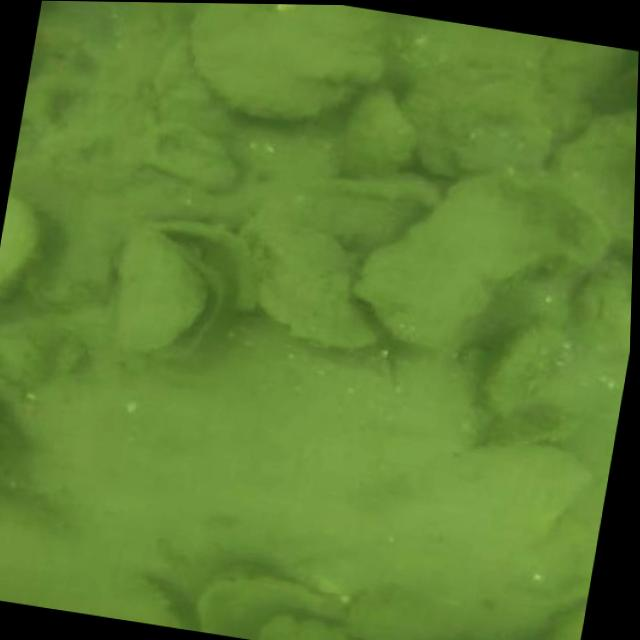Oyster-Closed: (489, 322, 569, 416), (341, 88, 411, 173), (544, 43, 633, 100)
Oyster-Indeterminate: (357, 177, 589, 353), (193, 7, 384, 123), (243, 216, 377, 350), (406, 62, 551, 176), (347, 587, 556, 640), (0, 196, 36, 294), (257, 615, 355, 640), (552, 626, 581, 640)
Oyster-Open: (119, 240, 225, 359)
